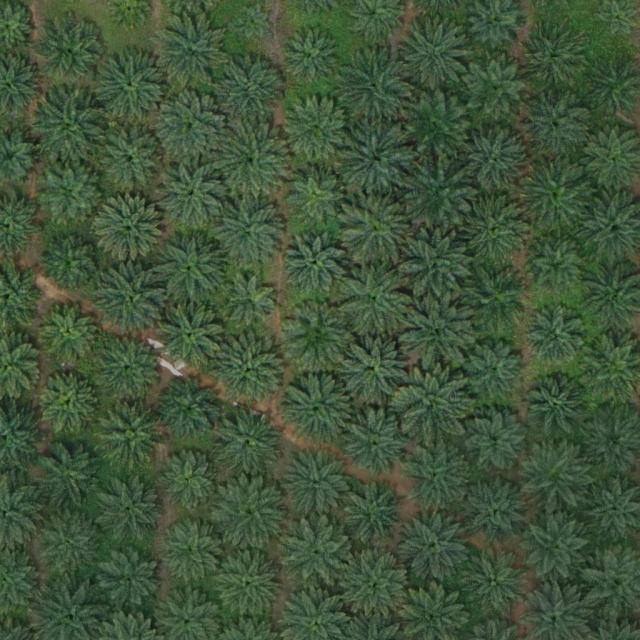Healthy: (399, 88, 470, 159), (340, 48, 411, 119), (340, 124, 411, 195), (157, 91, 228, 162), (96, 195, 167, 266), (154, 161, 225, 232), (156, 232, 227, 303), (215, 335, 286, 406), (284, 372, 355, 443), (522, 514, 593, 585), (284, 521, 355, 592), (36, 440, 107, 511), (459, 126, 529, 197), (282, 96, 352, 167), (217, 125, 287, 196), (155, 14, 225, 85), (96, 52, 167, 122), (96, 126, 166, 197), (36, 94, 106, 165), (95, 266, 165, 337), (95, 399, 165, 470), (214, 199, 284, 270), (284, 301, 354, 372), (341, 195, 412, 265), (341, 331, 411, 402), (404, 157, 474, 228), (400, 232, 471, 302), (464, 194, 534, 265), (462, 265, 532, 336), (522, 156, 592, 227), (519, 440, 589, 511), (400, 512, 470, 583), (217, 479, 287, 550), (217, 551, 287, 622), (94, 476, 164, 547), (34, 510, 105, 580), (521, 92, 591, 162), (401, 17, 471, 87), (216, 55, 286, 125), (36, 18, 106, 88), (94, 335, 164, 405), (157, 298, 227, 368), (342, 265, 412, 335), (402, 298, 472, 368), (398, 370, 468, 440), (459, 545, 529, 615), (402, 443, 472, 513), (344, 409, 414, 479), (344, 552, 414, 622), (282, 449, 352, 519), (214, 408, 284, 478), (520, 28, 583, 91), (42, 162, 105, 225), (39, 372, 102, 435), (220, 273, 283, 336), (285, 162, 348, 225), (464, 339, 527, 402), (465, 413, 528, 476), (465, 478, 528, 541), (466, 58, 528, 121), (43, 231, 105, 294), (42, 302, 104, 365), (158, 378, 220, 441), (283, 231, 345, 294), (528, 377, 590, 440), (347, 482, 409, 545), (101, 550, 163, 613), (280, 25, 342, 87), (525, 306, 587, 368), (159, 452, 221, 514), (162, 523, 224, 585), (529, 242, 584, 297)
Small: (234, 2, 273, 42)
